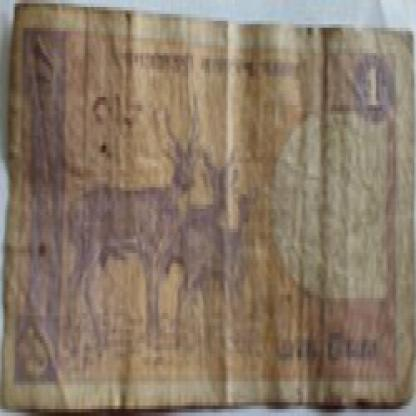One Taka: (273, 322, 388, 374), (16, 319, 56, 381), (27, 28, 63, 90), (361, 62, 388, 122)
